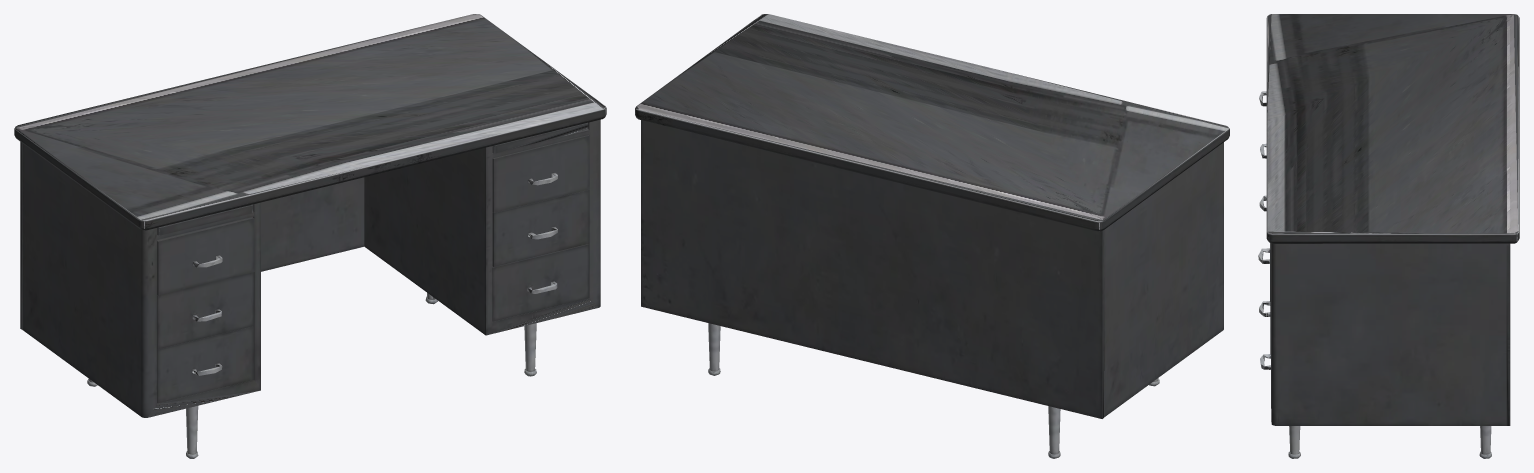
The model's file is metal_office_desk_lod2.glb.
3 renders of one model, left to right at view 1: azimuth 30°, elevation 25°; view 2: azimuth 150°, elevation 25°; view 3: azimuth 270°, elevation 25°, orthographic. The views are drawn at different scales.
Parts seen in each view (by area): view 1: metal_office_desk, metal_office_desk_drawer_04, metal_office_desk_drawer_01, metal_office_desk_drawer_02, metal_office_desk_drawer_03, metal_office_desk_drawer_06, metal_office_desk_drawer_05, metal_office_desk_tray_01, metal_office_desk_tray_02; view 2: metal_office_desk; view 3: metal_office_desk.
Boxes of the visible parts, bbox=[...] form: metal_office_desk: bbox=[14, 14, 606, 458]; metal_office_desk_drawer_04: bbox=[157, 217, 254, 295]; metal_office_desk_drawer_01: bbox=[492, 135, 589, 212]; metal_office_desk_drawer_02: bbox=[492, 189, 589, 266]; metal_office_desk_drawer_03: bbox=[492, 244, 588, 321]; metal_office_desk_drawer_06: bbox=[157, 326, 253, 403]; metal_office_desk_drawer_05: bbox=[157, 272, 253, 349]; metal_office_desk_tray_01: bbox=[157, 204, 253, 235]; metal_office_desk_tray_02: bbox=[492, 122, 588, 153]; metal_office_desk: bbox=[635, 14, 1229, 458]; metal_office_desk: bbox=[1266, 14, 1519, 458].
Bounding box in the file's own units: 1.4 × 0.7495 × 0.6999.
Materials: 1 (1 with a texture image).
